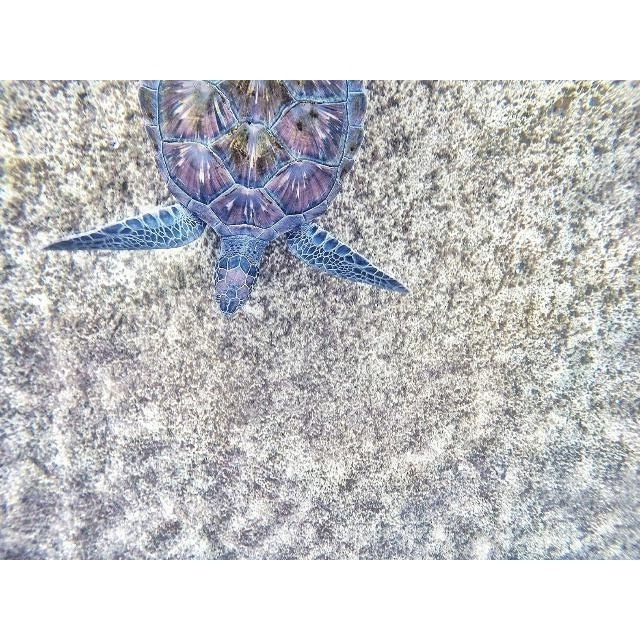turtle: (45, 82, 409, 315)
